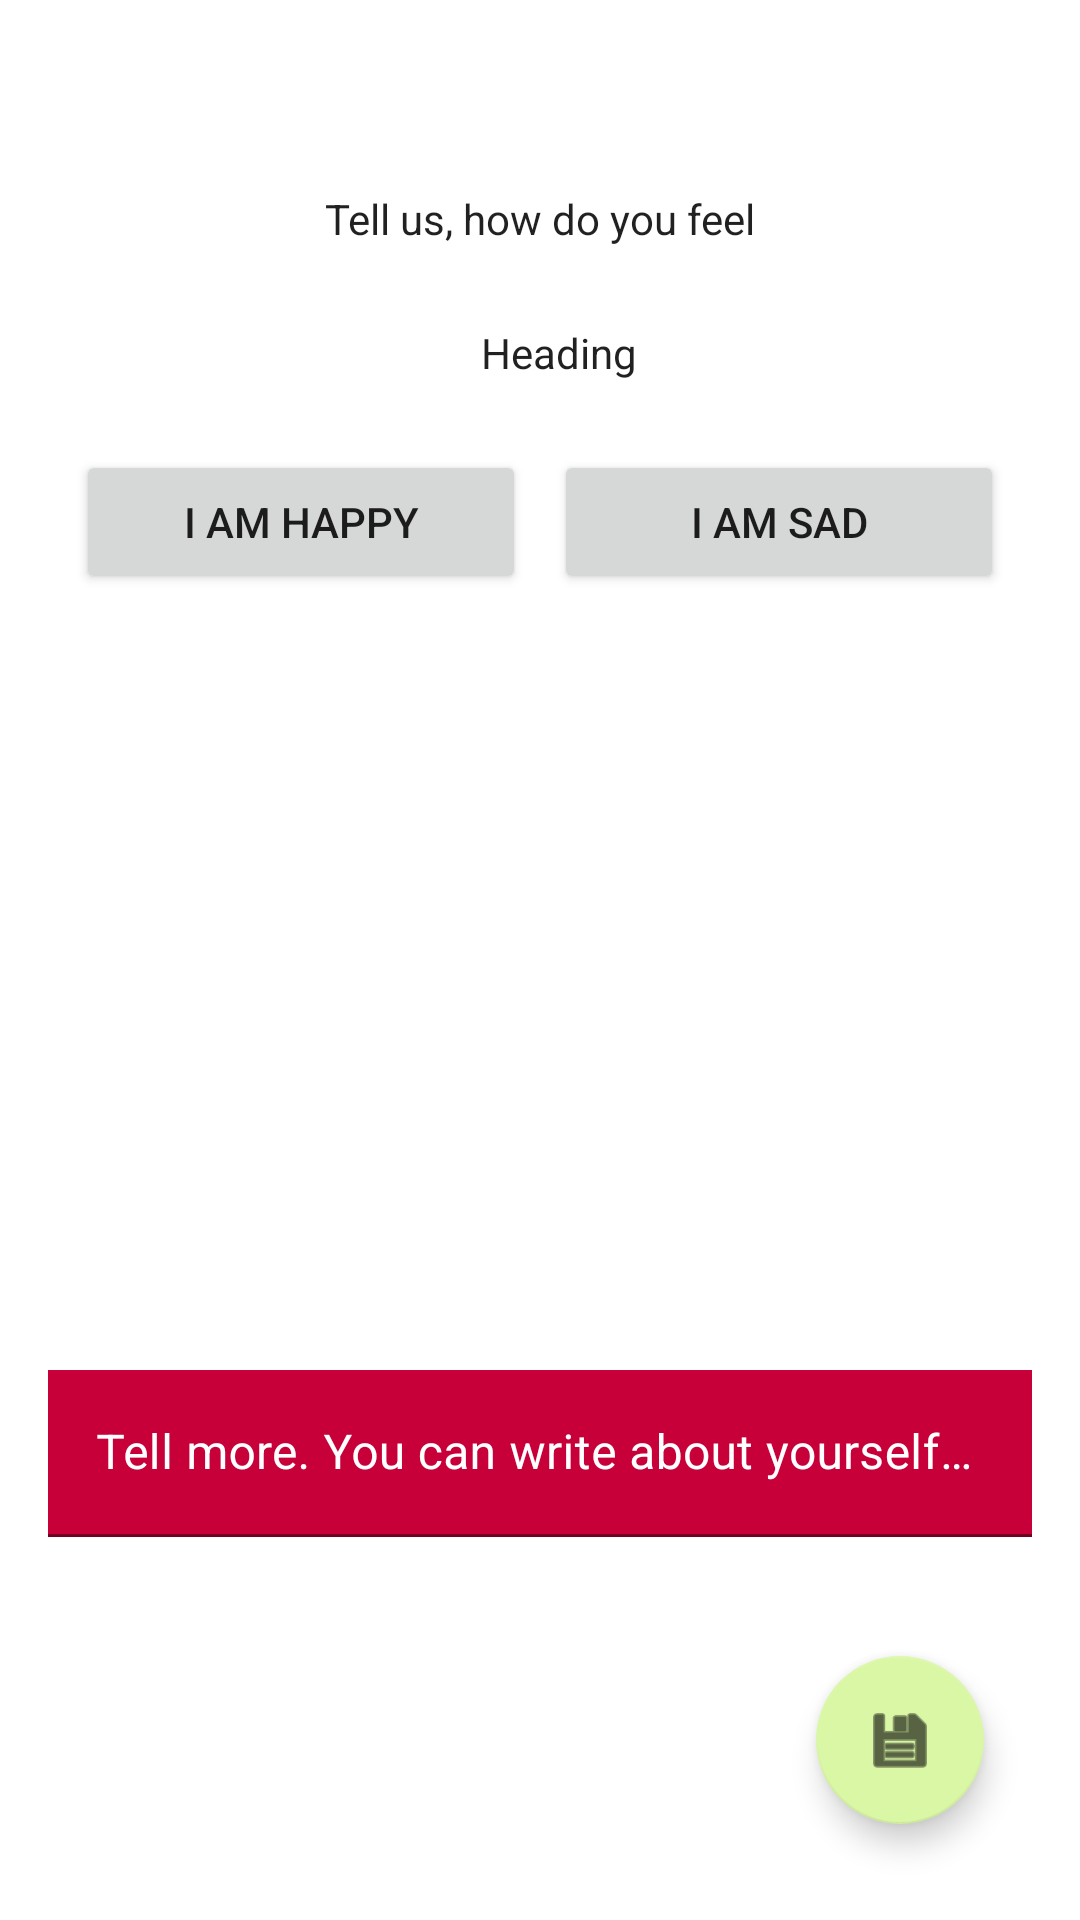

Screen size 1080 × 1920. Icon name, then its center in pixels as [x,y]:
Save text what you wrote about your self: [900,1740]
